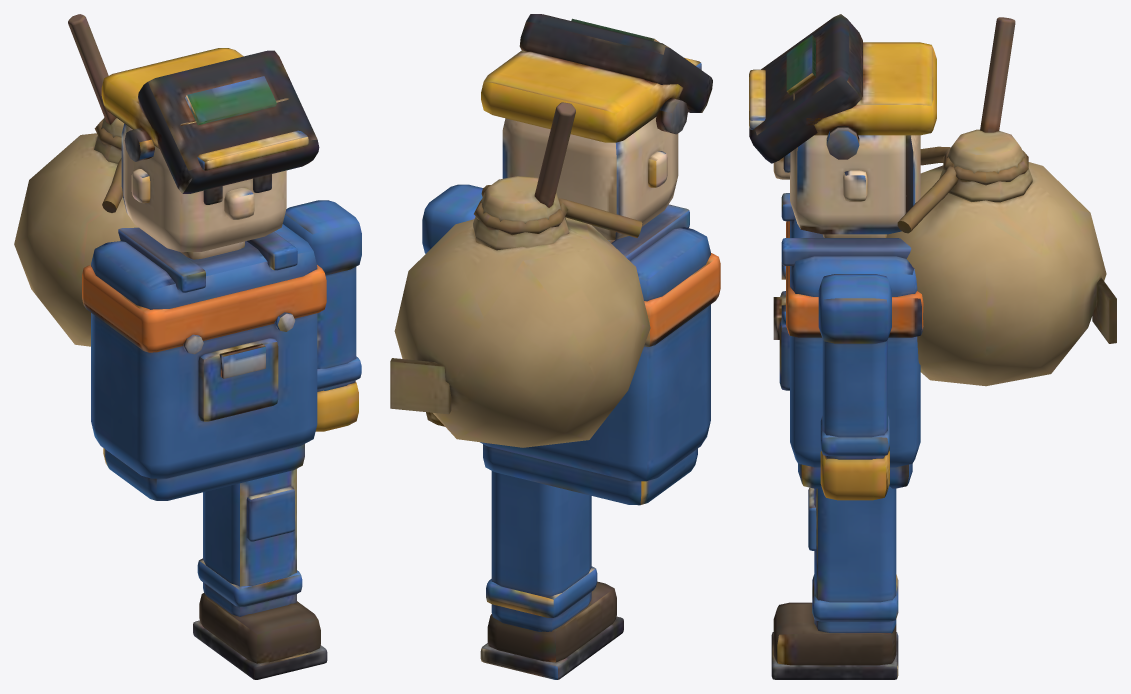
The model's file is scavenger.glb.
3 renders of one model, left to right at view 1: azimuth 30°, elevation 25°; view 2: azimuth 150°, elevation 25°; view 3: azimuth 270°, elevation 25°, orthographic. The views are drawn at different scales.
Parts seen in each view (by area): view 1: body, leg, sack, arm; view 2: body, sack, leg, arm; view 3: body, sack, leg, arm.
Boxes of the visible parts, box(x1,y1,x2,y2) form: body: box(82, 48, 326, 500); leg: box(193, 469, 327, 679); sack: box(14, 14, 138, 346); arm: box(282, 200, 361, 431); body: box(480, 14, 720, 505); sack: box(390, 102, 650, 447); leg: box(480, 471, 623, 679); arm: box(422, 184, 482, 426); body: box(749, 14, 936, 488); sack: box(886, 17, 1116, 386); leg: box(771, 486, 898, 679); arm: box(818, 274, 891, 500).
Size of the model in its own units: 0.7114 by 1.62 by 0.9002.
1 material, 1 textured.
